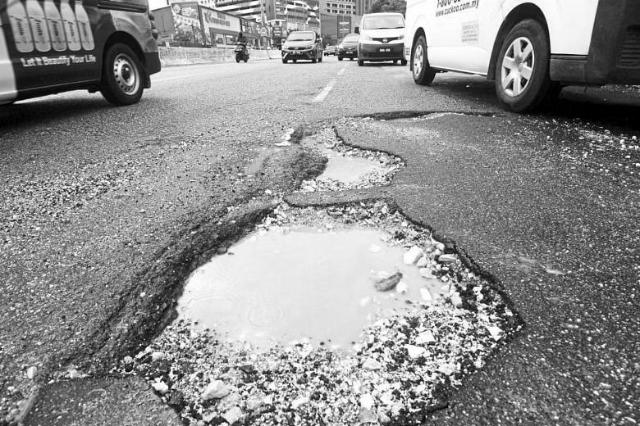Pothole: (120, 196, 528, 426), (294, 119, 408, 194)
